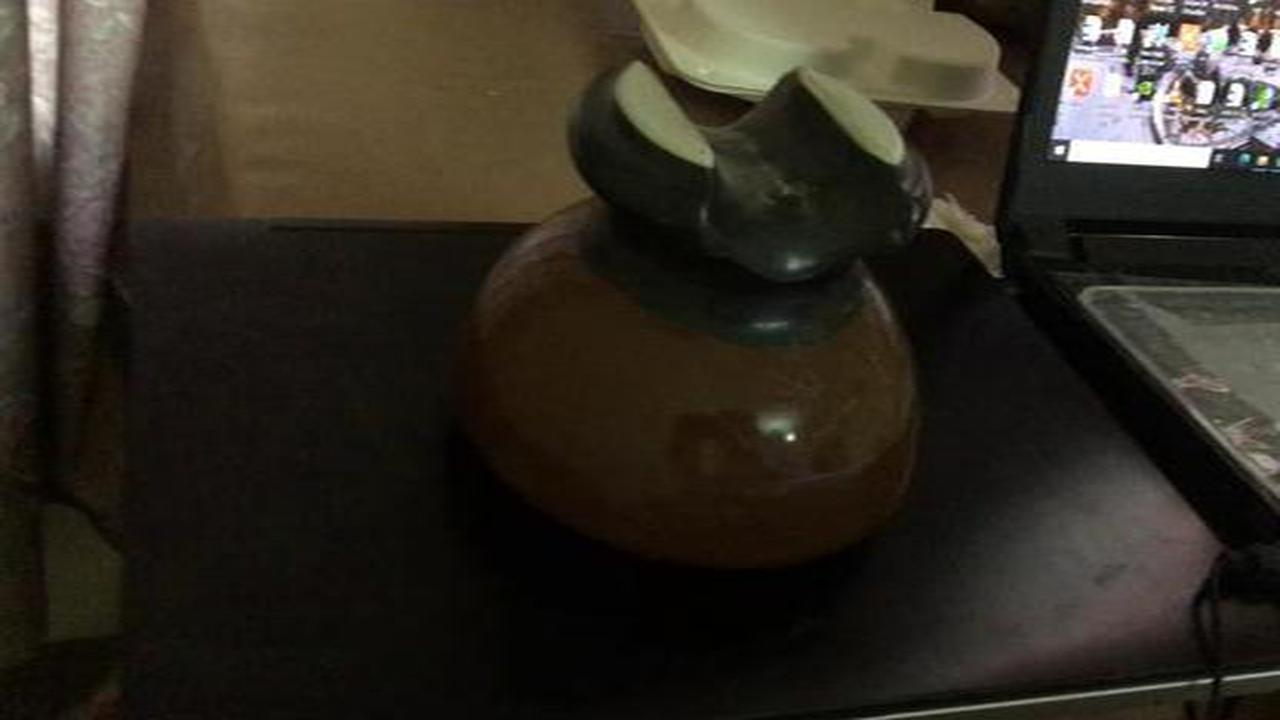insulator_pin: (441, 44, 961, 586)
